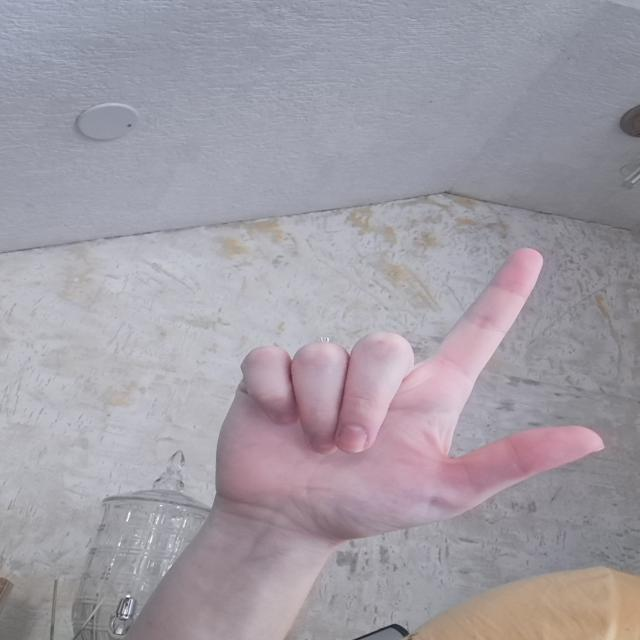L: (188, 228, 628, 538)
